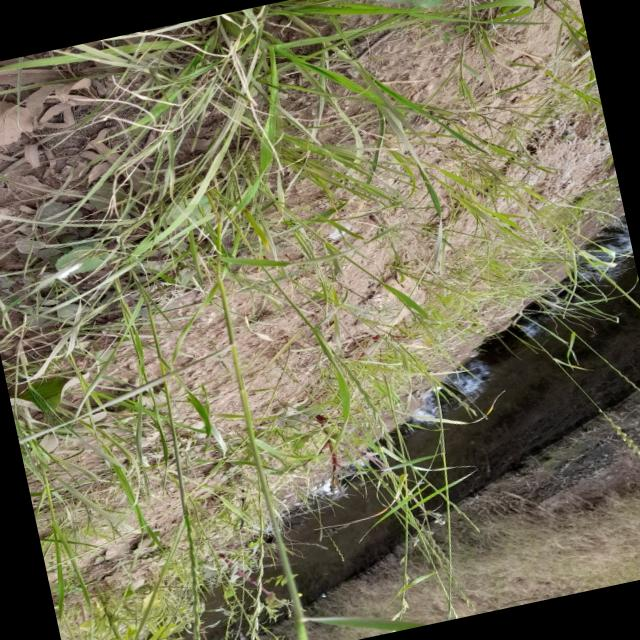Lolium: (238, 0, 489, 202), (312, 0, 515, 195), (336, 340, 462, 622), (320, 405, 474, 632), (513, 288, 640, 477)
